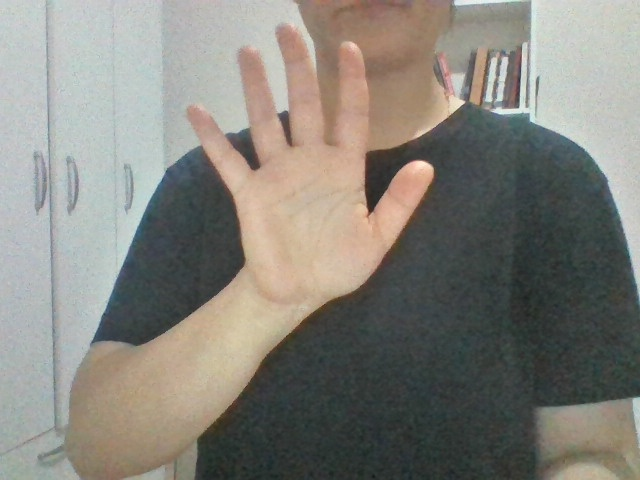Hello: (128, 11, 448, 325)
